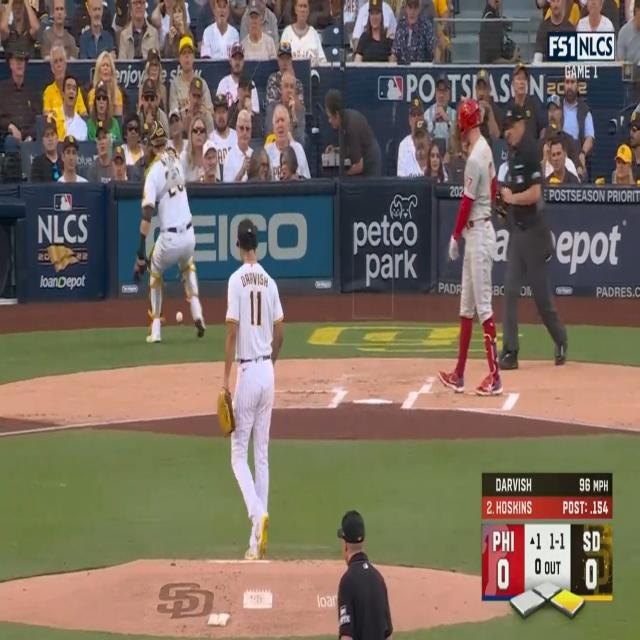baseball: (176, 312, 183, 322)
